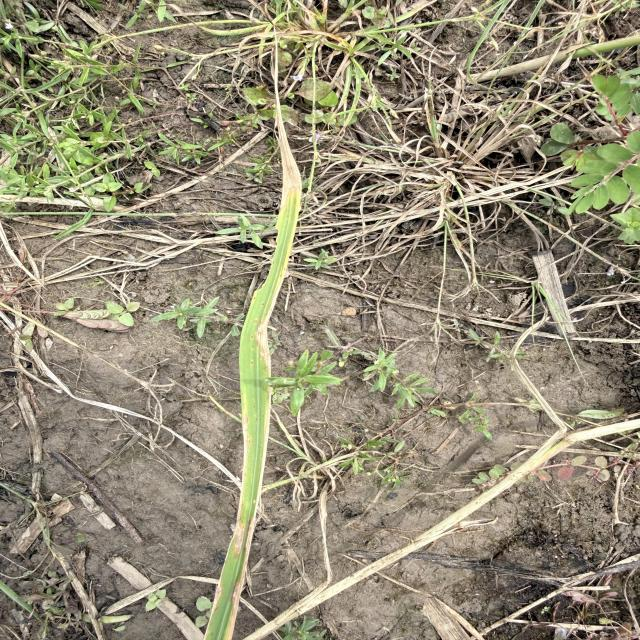Chay bia la: (253, 269, 281, 486), (275, 28, 303, 210), (224, 520, 256, 639), (231, 492, 246, 561), (241, 397, 253, 474), (209, 585, 223, 618)
